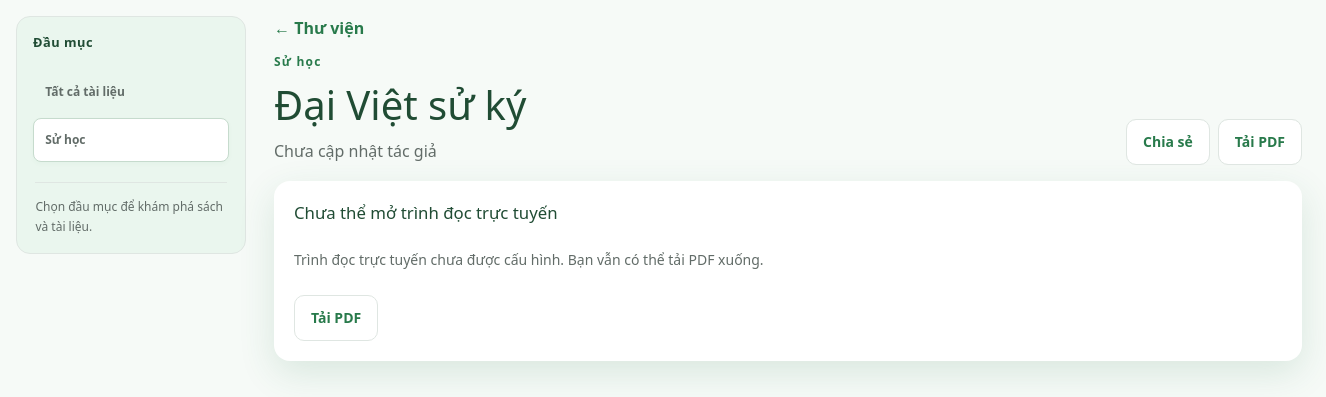
LibraryDetailPage › keeps download available when the public S3 URL is not configured
The image size is (1326, 397).
Check: the message shows "Trình đọc trực tuyến chưa được cấu hình", box [294, 250, 764, 269]
Click the button "Tải PDF" below "Chưa thể mở trình đọc trực tuyến" at [336, 318], box [294, 295, 378, 341]
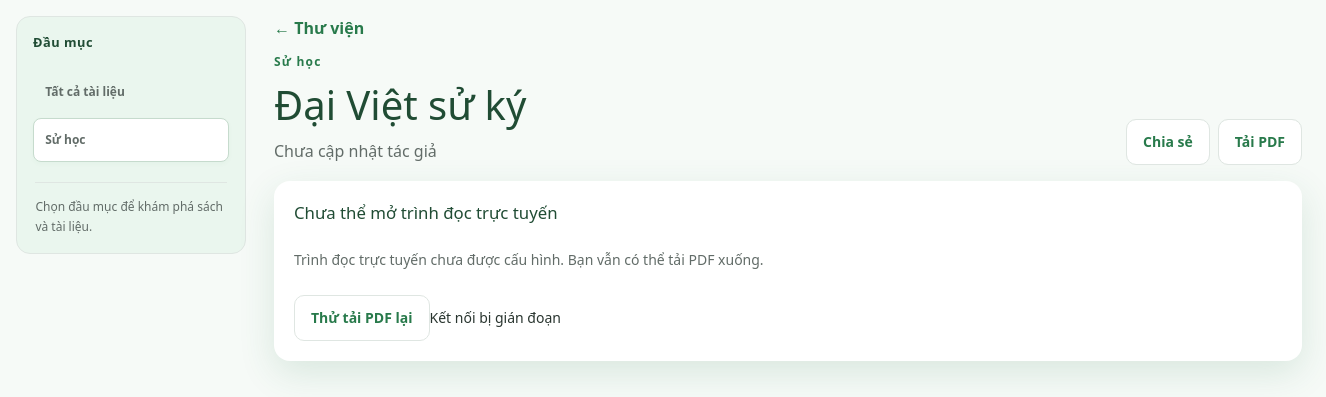
Check: the button "Thử tải PDF lại" is enabled, box [294, 295, 430, 341]
Check: the text "Kết nối bị gián đoạn" is shown, box [430, 308, 561, 327]
